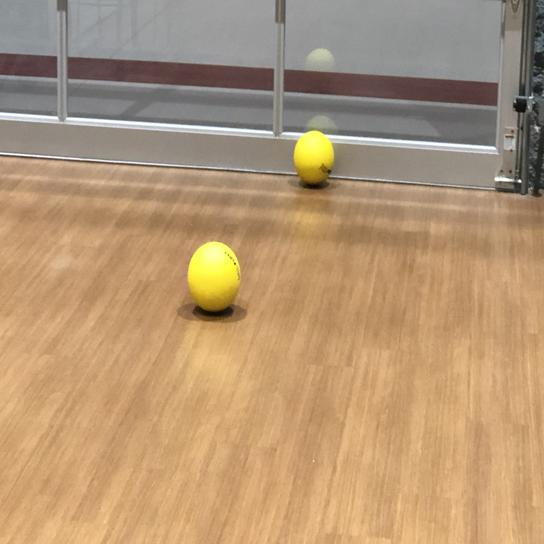ball: (184, 238, 241, 314), (291, 128, 336, 187)
